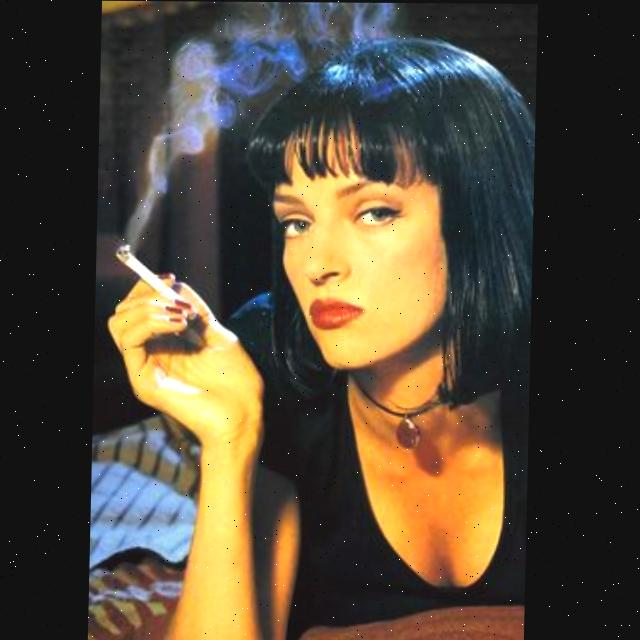cigarette: (114, 243, 198, 315)
